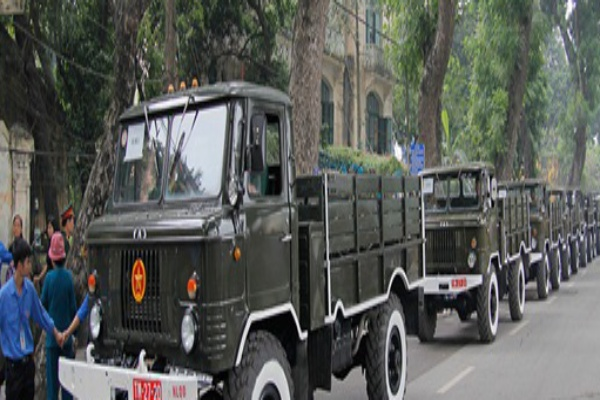plate: (129, 378, 164, 400)
